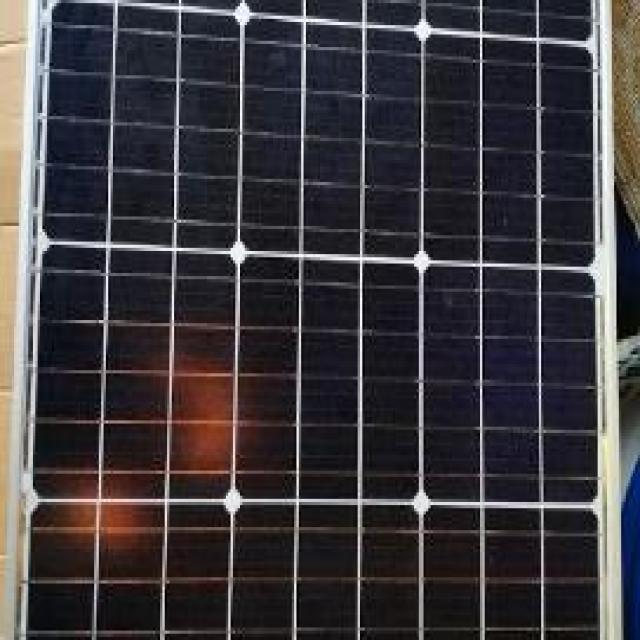Electrical-damage: (20, 269, 276, 571)
